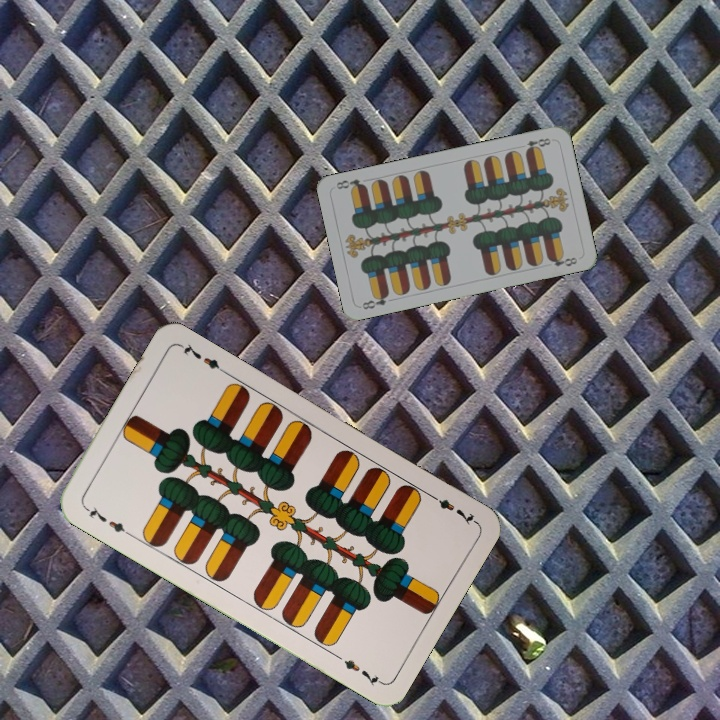E7: (425, 489, 478, 528), (80, 501, 133, 539)
E8: (358, 289, 392, 312), (522, 134, 555, 155)
